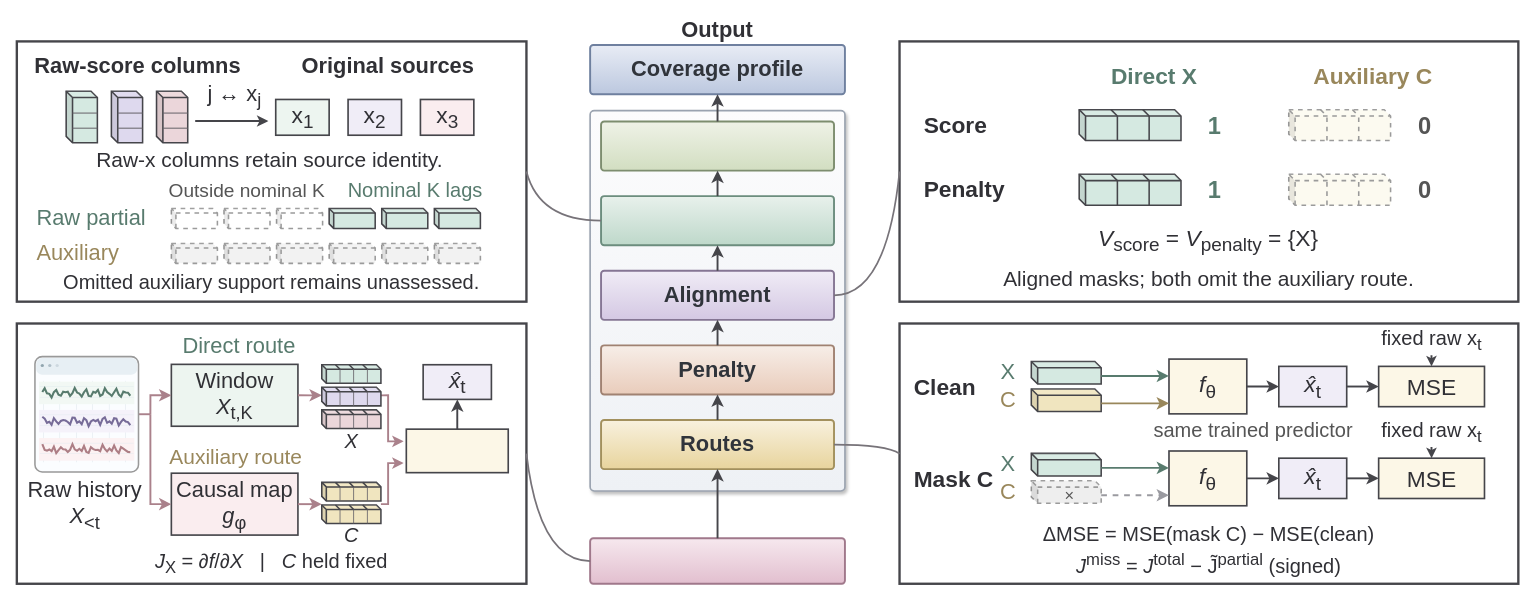
This 1535x601 diagram has some shape labels left out. Here are the shapes that lost their labels. From the top down, the centre of each, then its label:
At pixel 717 145: "Temporal support".
At pixel 717 220: "Coordinates".
At pixel 86 365: "X(t)".
At pixel 457 450: "f θ [X; C]".
At pixel 717 560: "Predictive computation".
